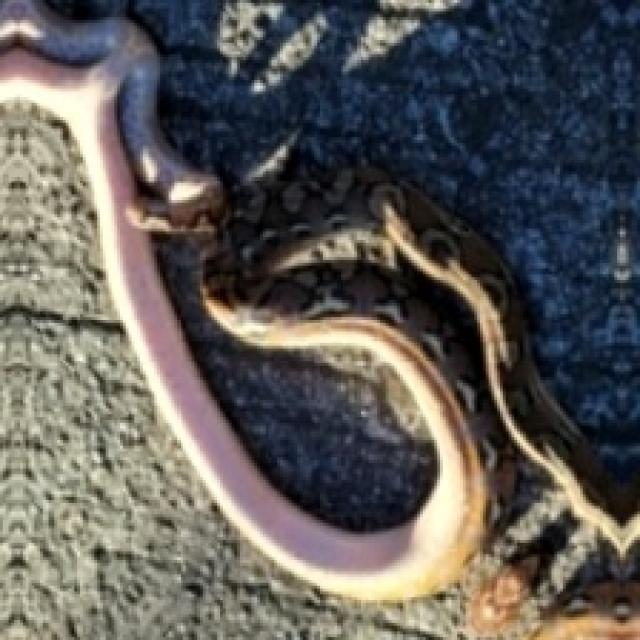reticulated python: (0, 0, 640, 601)
